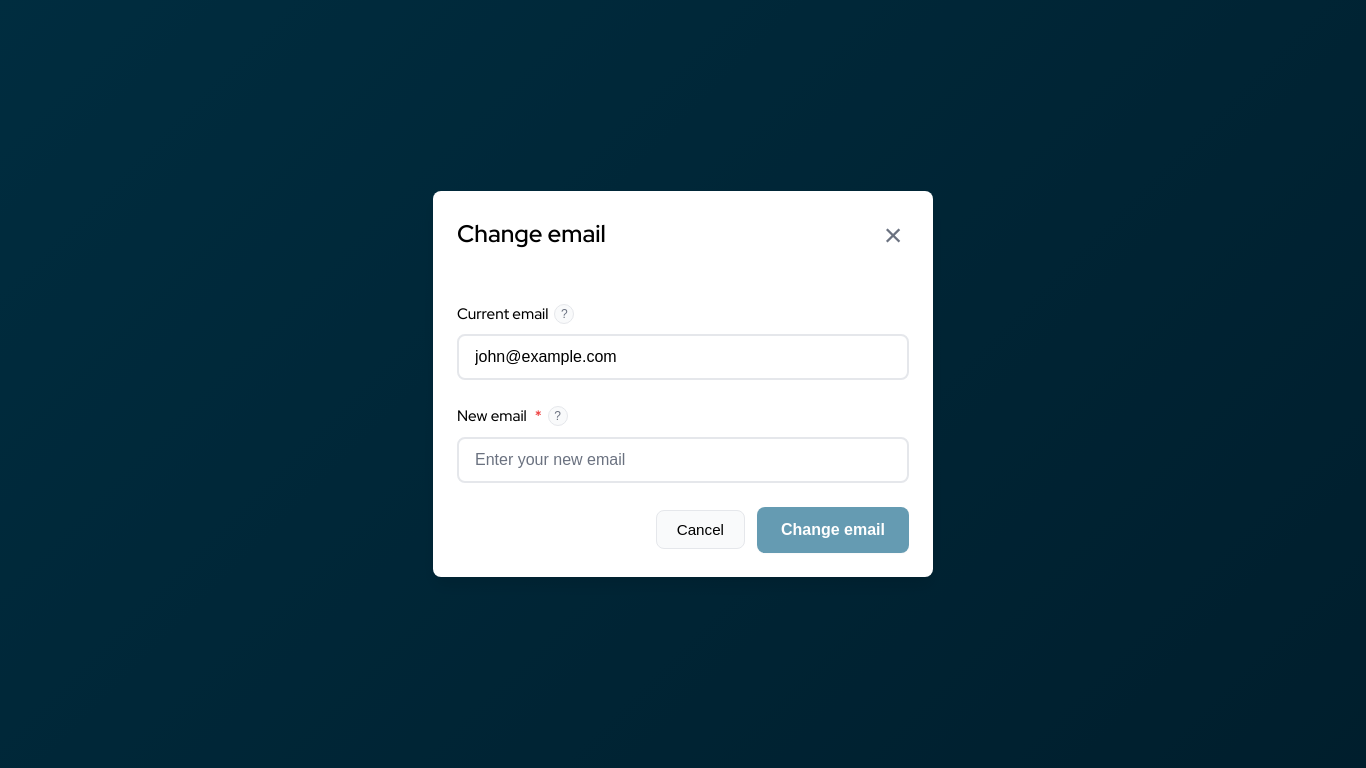
Test: ChangeEmailModal › should show loading state when submitting
Type "newemail@example.com" into the field with placeholder "Enter your new email".
click(683, 460); type("newemail@example.com")  # box x1=457 y1=436 x2=909 y2=482
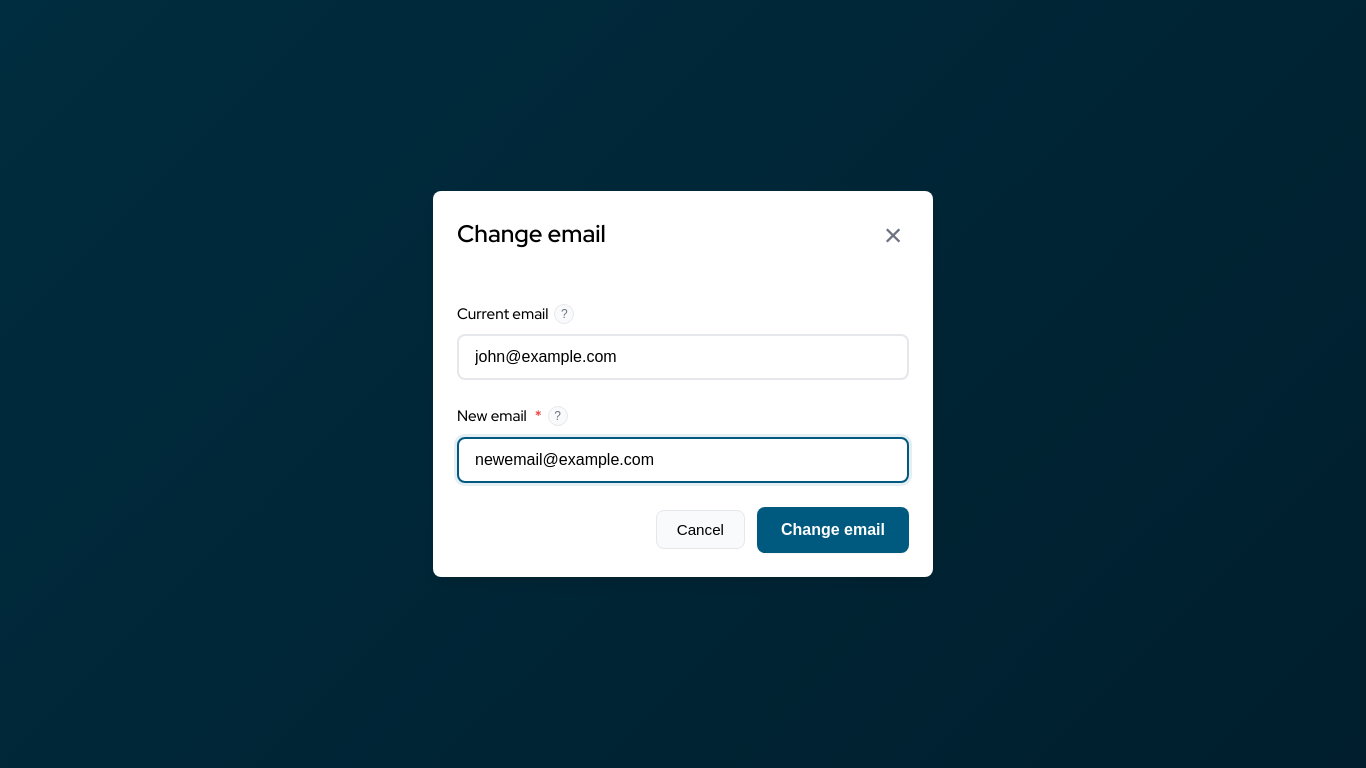
Click the button "Change email".
click(833, 530)  # box x1=757 y1=506 x2=909 y2=552
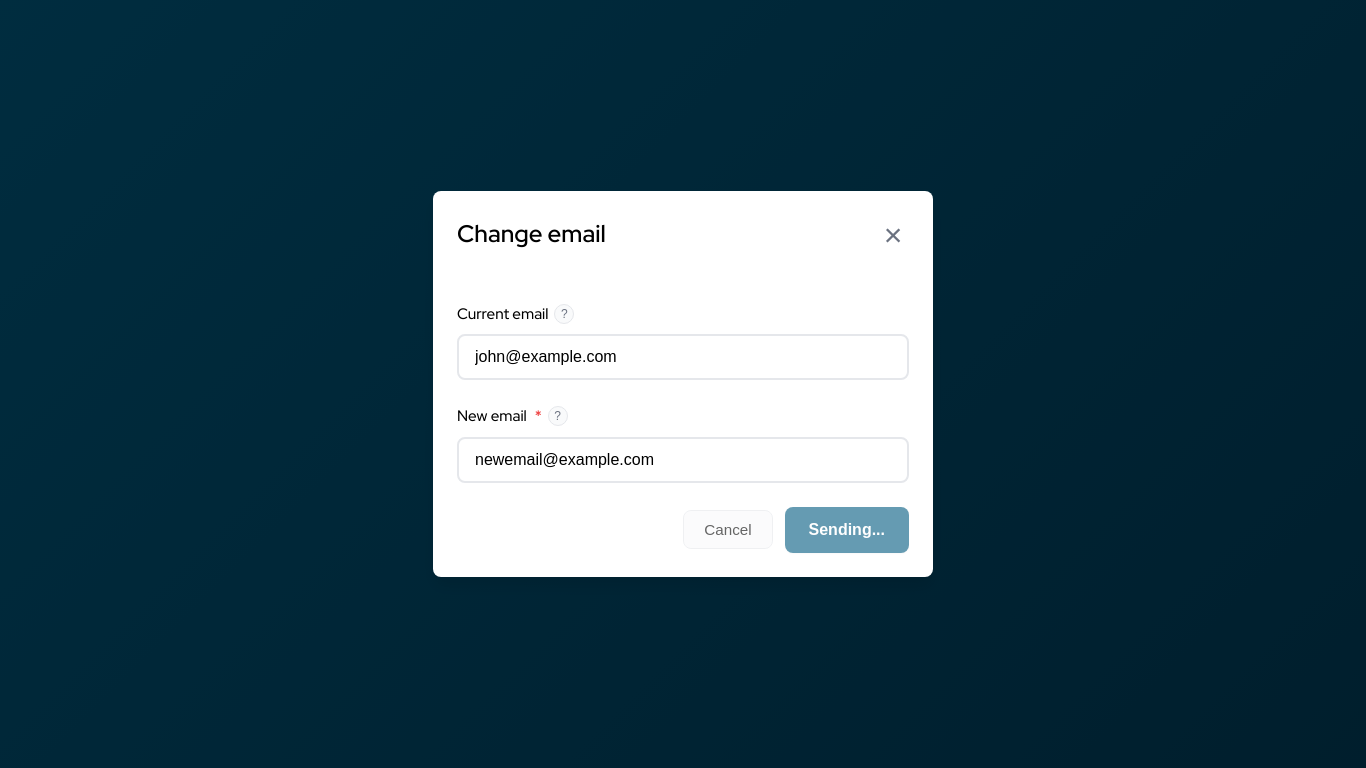
Result: the button "Sending..." is disabled at x1=784 y1=506 x2=909 y2=552
